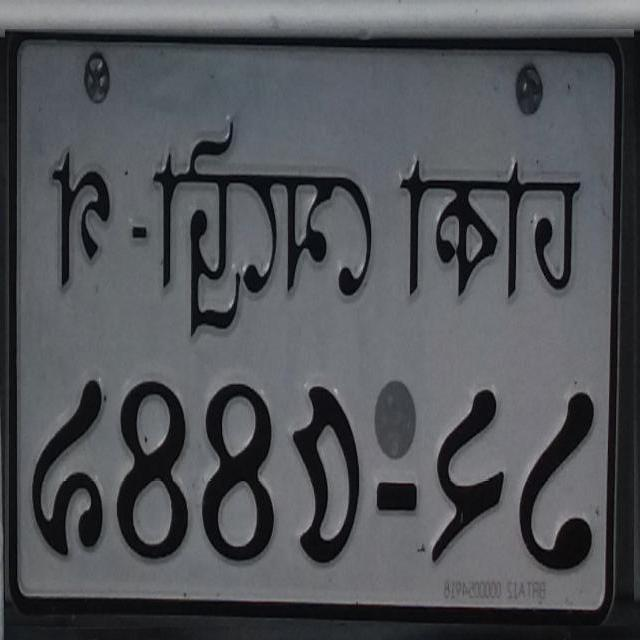numberplate: (5, 29, 634, 626)
